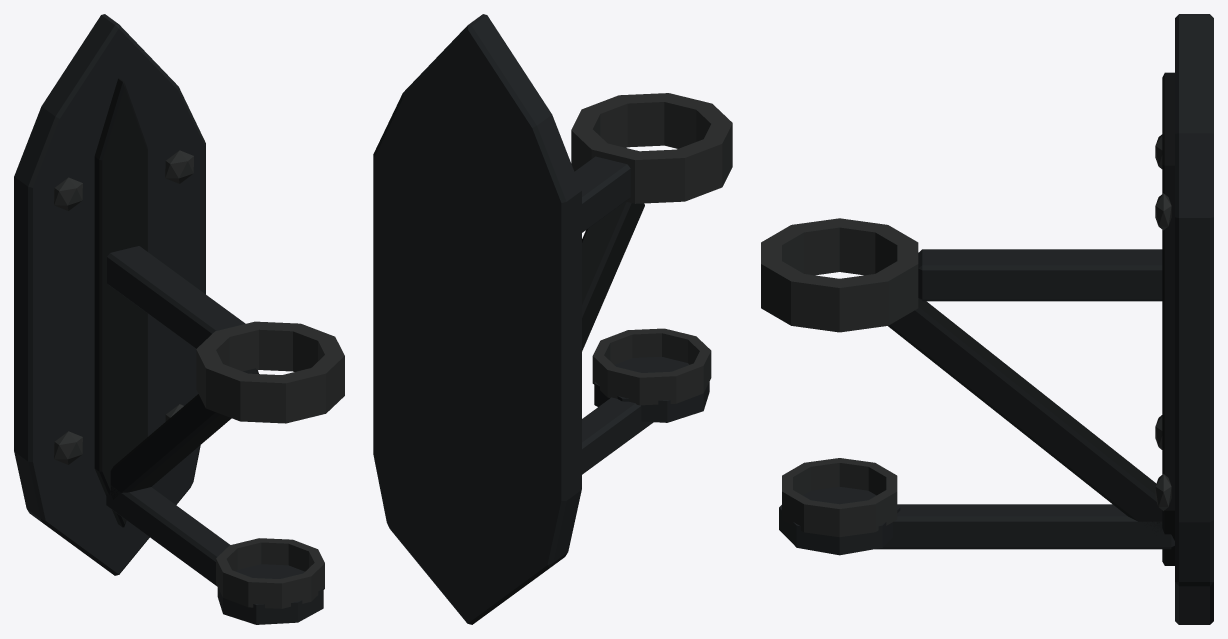
File: TorchHolder.fbx
The picture shows the model from 3 angles, left to right: view 1: azimuth 30°, elevation 25°; view 2: azimuth 150°, elevation 25°; view 3: azimuth 270°, elevation 25°; orthographic projection. The views are drawn at different scales.
Parts seen in each view (by area): view 1: TorchHolder; view 2: TorchHolder; view 3: TorchHolder.
Part boxes in pixels (box(x1,y1,x2,y2)): TorchHolder: box(14, 14, 344, 624); TorchHolder: box(373, 14, 732, 624); TorchHolder: box(761, 14, 1213, 624).
Bounding box in the file's own units: 0.176 × 0.5206 × 0.3509.
Materials: 1 (1 with a texture image).
